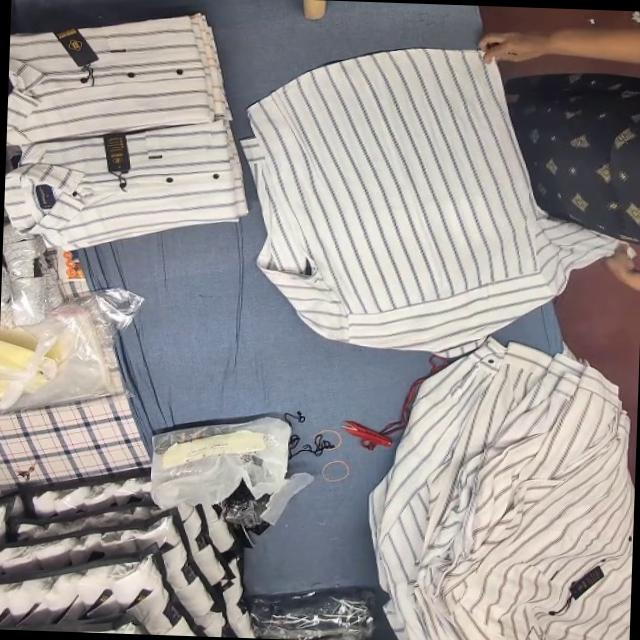new-garment: (243, 48, 610, 354)
